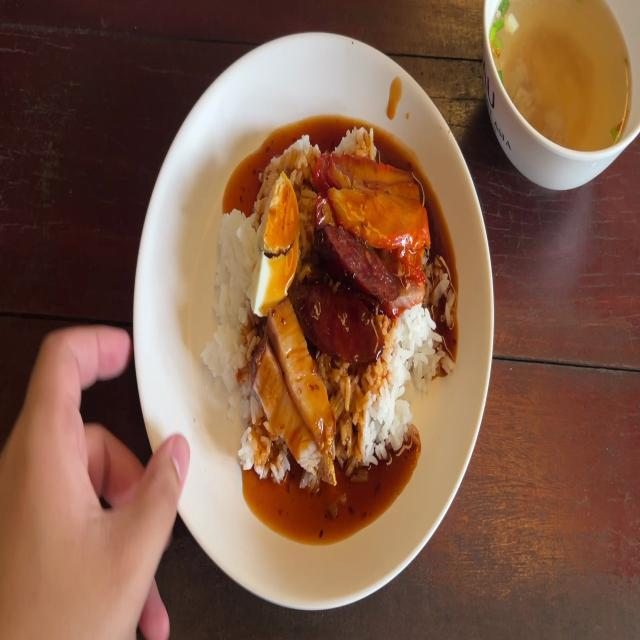red_pork_and_crispy_pork: (255, 177, 295, 307)
stir_fried_basil: (299, 222, 400, 361)
